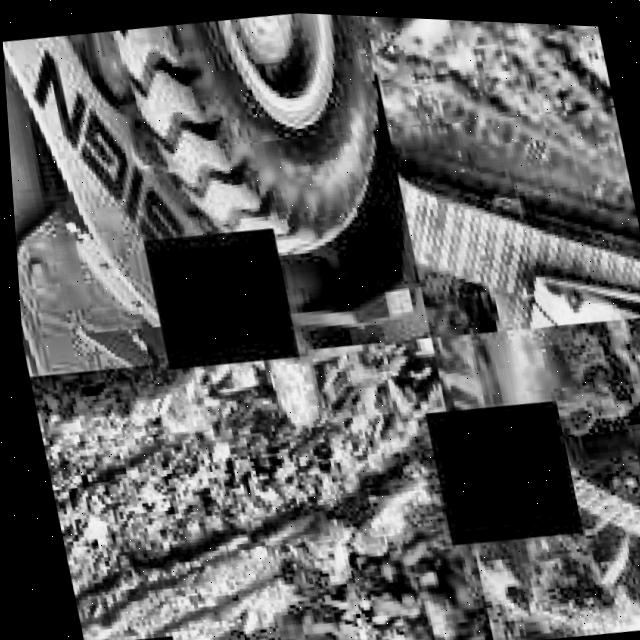buldozerpayloadergrader: (0, 0, 426, 387)
excavator: (424, 301, 640, 640), (387, 103, 640, 339)
